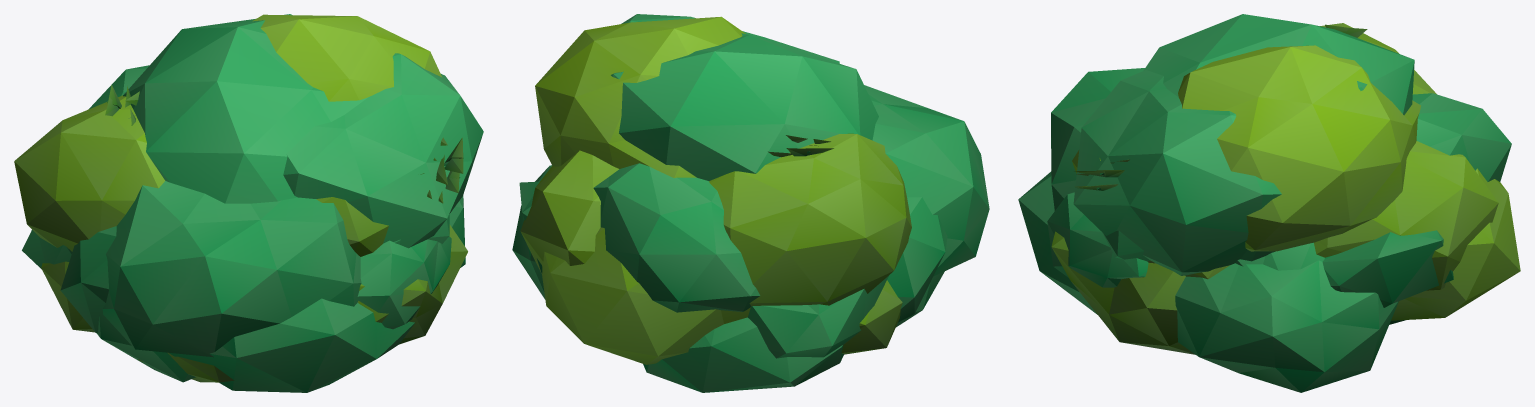
File: vegetasi_bush_emerald_783196.glb
3 views of the same model, side by side, from view 1: azimuth 30°, elevation 25°; view 2: azimuth 150°, elevation 25°; view 3: azimuth 270°, elevation 25° (orthographic). The views are drawn at different scales.
Parts seen in each view (by area): view 1: Semak_Belukar_Sungai; view 2: Semak_Belukar_Sungai; view 3: Semak_Belukar_Sungai.
Boxes of the visible parts, box(x1,y1,x2,y2) form: Semak_Belukar_Sungai: box(14, 14, 483, 392); Semak_Belukar_Sungai: box(512, 14, 989, 392); Semak_Belukar_Sungai: box(1018, 14, 1520, 392).
Size of the model in its own units: 2.63 by 1.9 by 2.77.
